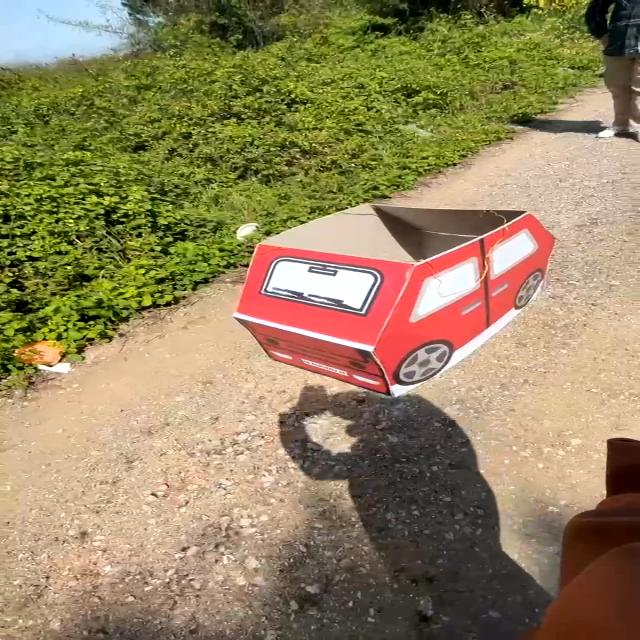red_car: (226, 202, 559, 395)
